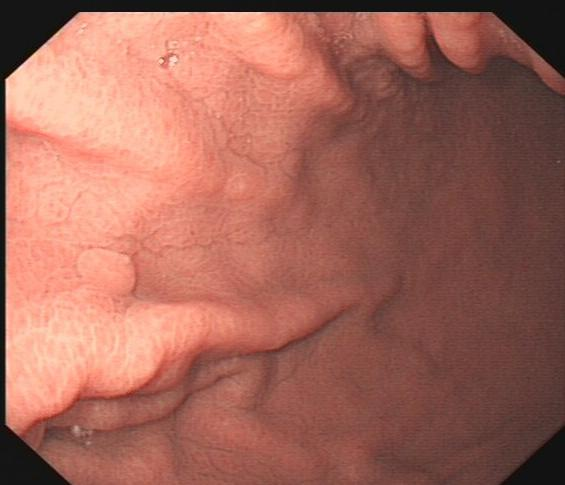Polyp: (68, 232, 130, 300)
